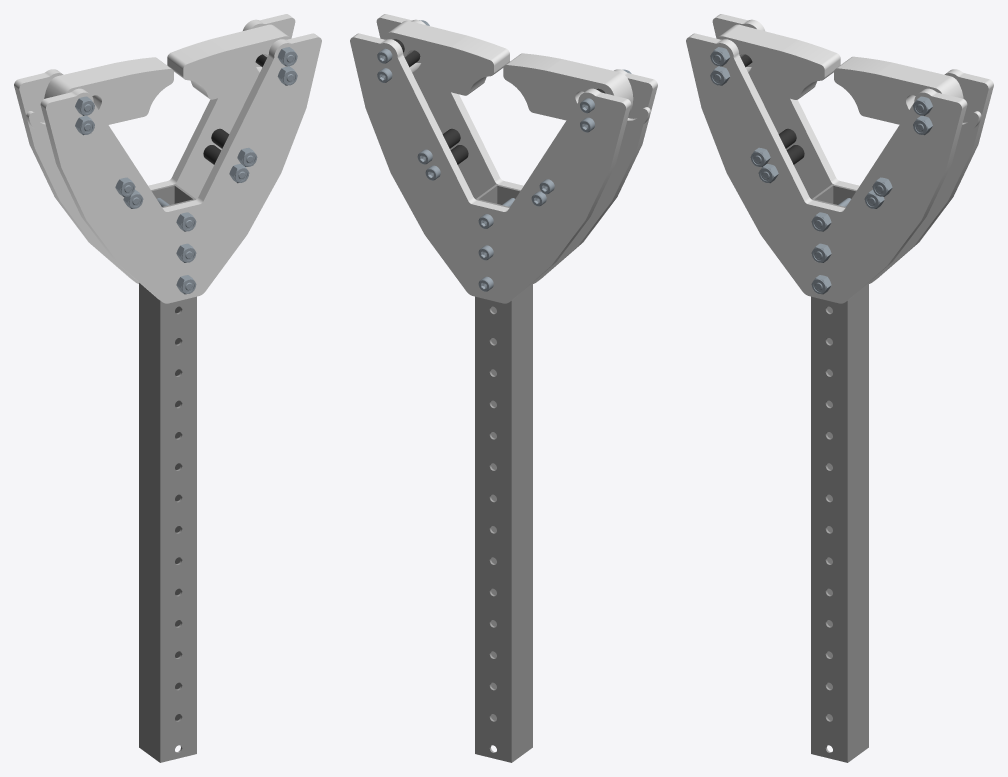
The picture shows the model from 3 angles, left to right: view 1: azimuth 30°, elevation 25°; view 2: azimuth 150°, elevation 25°; view 3: azimuth 330°, elevation 25°; orthographic projection.
Parts seen in each view (by area): view 1: Climb Funnel (×2), Tube 1"x1"x14.366", Climb Paw (×2); view 2: Climb Funnel (×2), Tube 1"x1"x14.366", Climb Paw (×2); view 3: Climb Funnel (×2), Tube 1"x1"x14.366", Climb Paw (×2).
Boxes of the visible parts, x1,y1,x2,y2 form: Climb Funnel (×2): [14, 14, 321, 303]; Tube 1"x1"x14.366": [139, 184, 196, 762]; Climb Paw (×2): [26, 24, 290, 132]; Climb Funnel (×2): [350, 14, 657, 303]; Tube 1"x1"x14.366": [475, 184, 532, 762]; Climb Paw (×2): [383, 20, 650, 128]; Climb Funnel (×2): [686, 14, 993, 303]; Tube 1"x1"x14.366": [811, 184, 868, 762]; Climb Paw (×2): [717, 24, 981, 132].
Bounding box in the file's own units: 0.1969 × 0.4584 × 0.0493.
